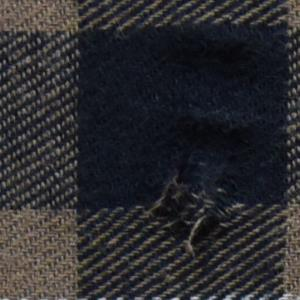Damage: (130, 98, 269, 268)
